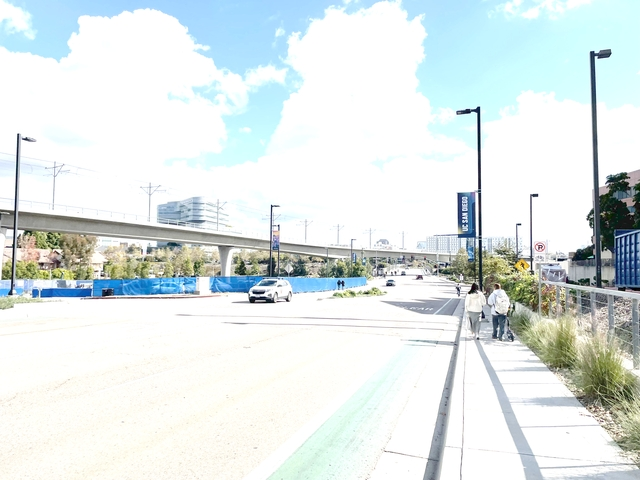Car: (247, 275, 294, 305), (385, 279, 399, 287), (415, 274, 424, 280), (401, 270, 407, 276)
